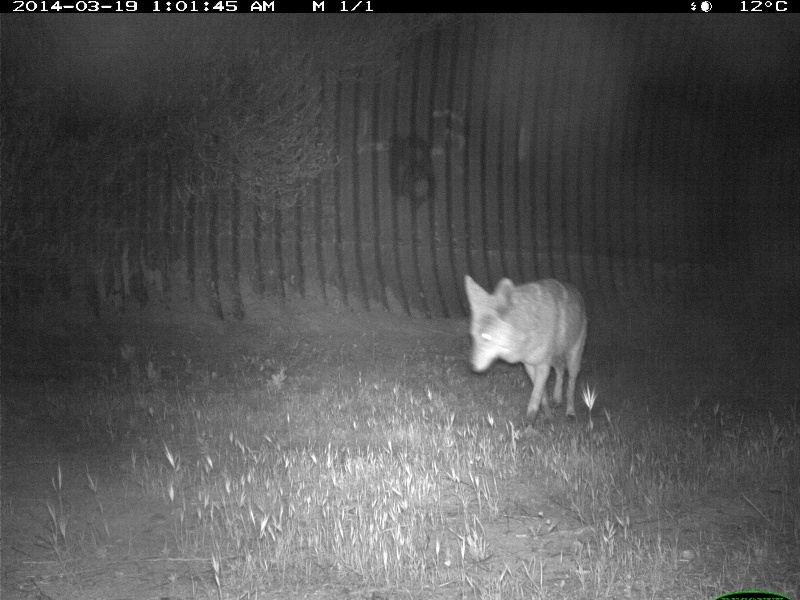coyote: (459, 272, 594, 431)
